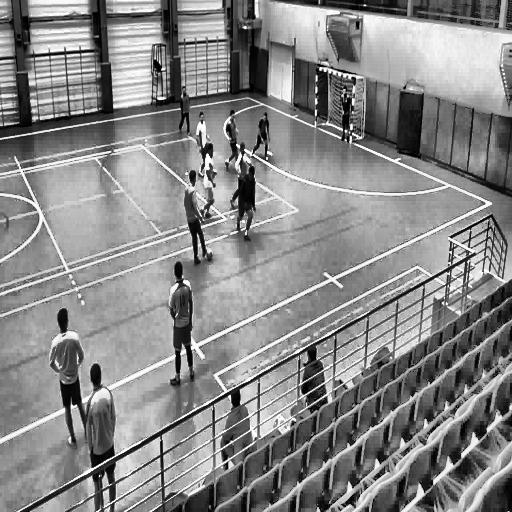ball: (205, 246, 214, 264)
player: (44, 304, 97, 449), (82, 359, 121, 512), (157, 261, 197, 388), (293, 339, 331, 415), (218, 384, 255, 461), (182, 168, 208, 267), (230, 167, 260, 248), (231, 140, 256, 208), (195, 110, 218, 176), (200, 142, 218, 223), (251, 110, 271, 166), (224, 107, 239, 170), (338, 82, 352, 147), (178, 82, 194, 138)
